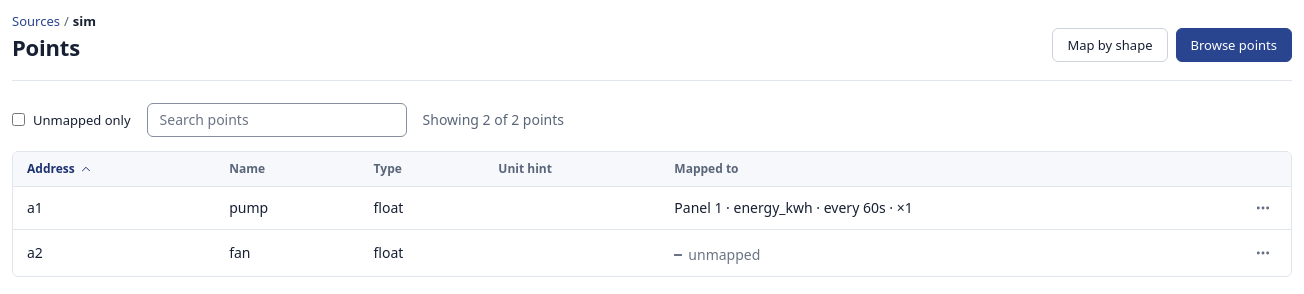
Test: SourcePointsPage sorting, filtering and search › says no points match when Unmapped only and a search leave nothing
Expected: the text "a1" is shown, [27,198,43,218]
Click the checkbox labelled "Unmapped only": {"x": 18, "y": 120} [12,113,25,126]
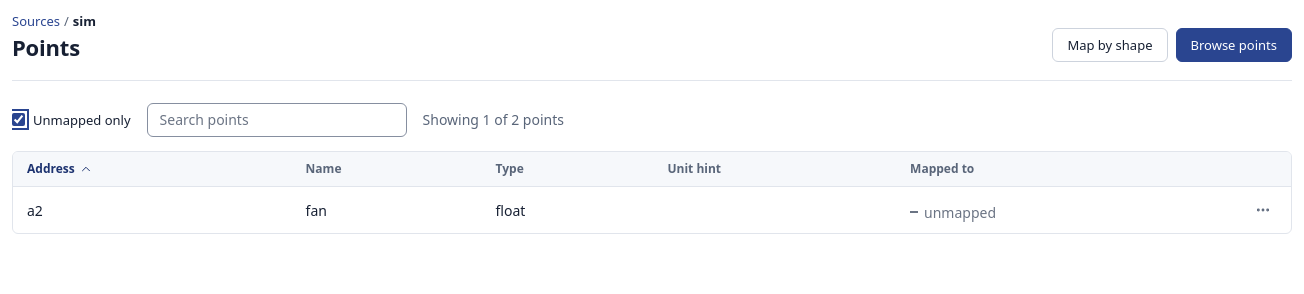
In the search field labelled "Search points": {"x": 277, "y": 120} [147,103,407,137], type "pump"
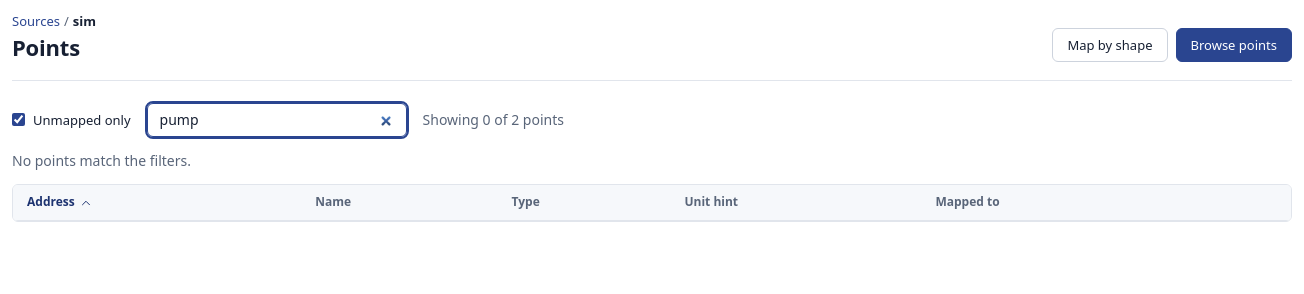
Result: the text "No points match the filters." is shown at [12,151,191,170]
